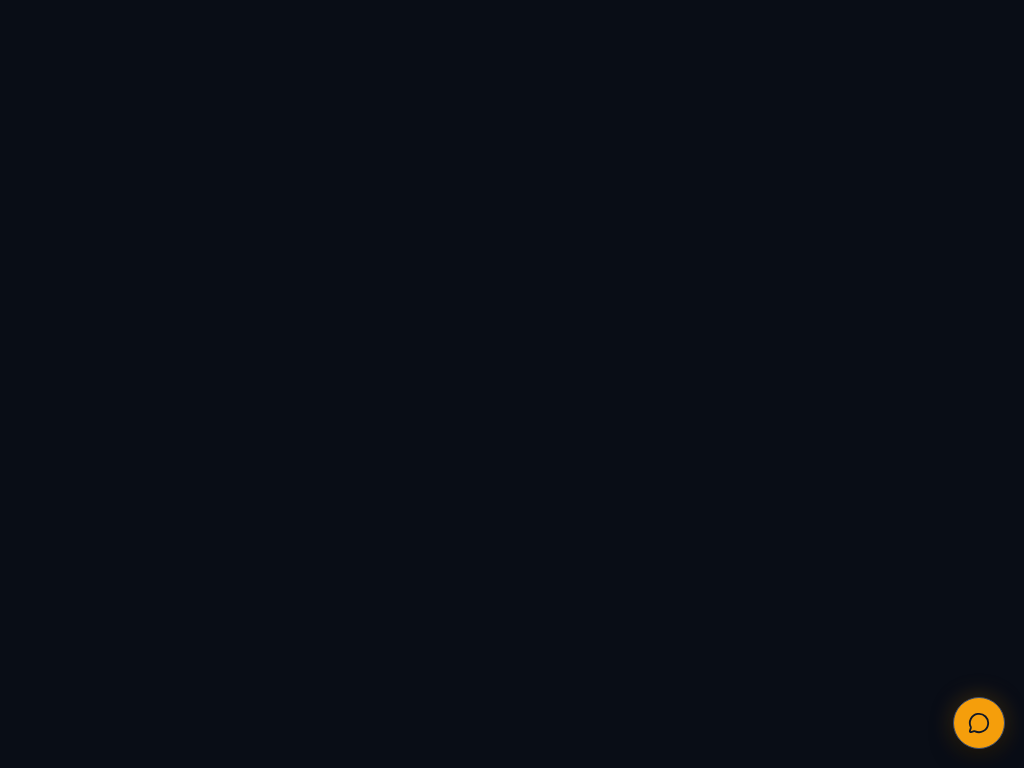
it: AssistantWidget › clear-chat deletes the conversation server-side and resets the UI
Click the button named "open assistant chat": click(979, 723) x1=953 y1=697 x2=1005 y2=749
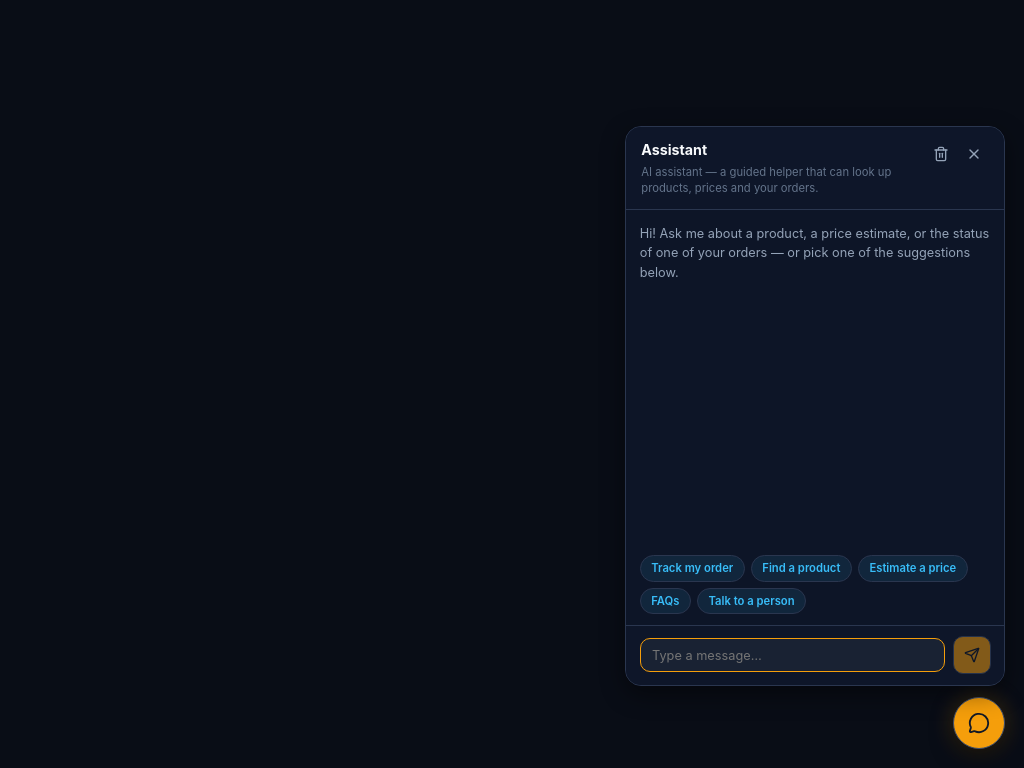
In the field named "message the assistant": (793, 655) x1=640 y1=638 x2=945 y2=672, type "Clear me"
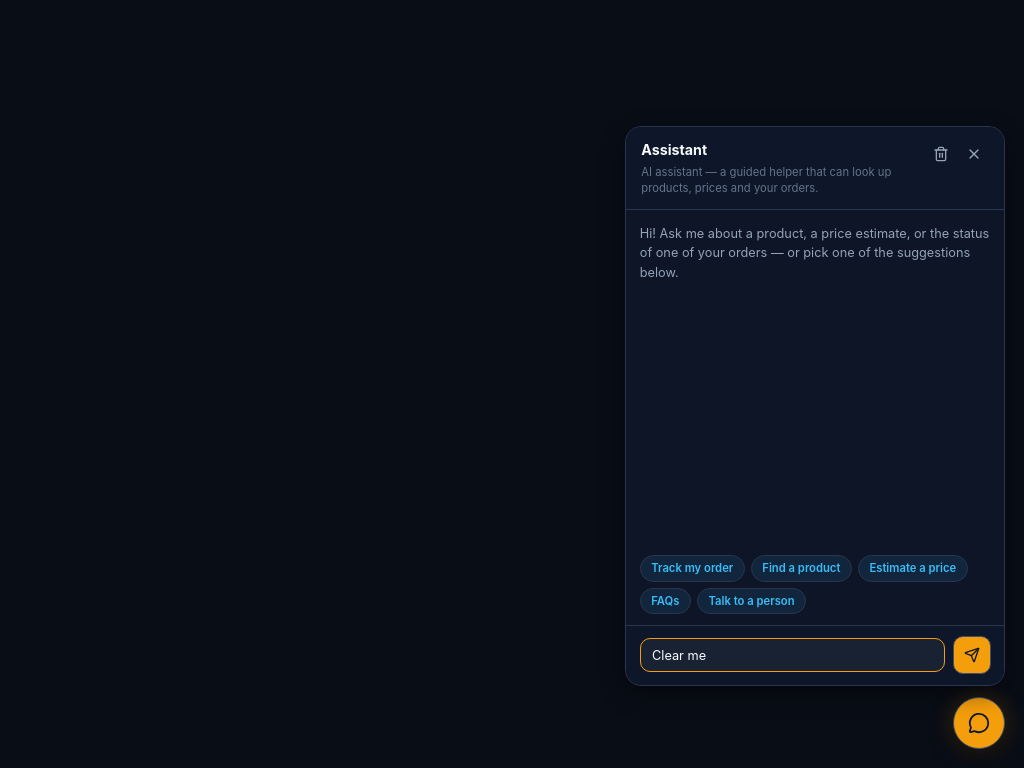
Click the button named "send message": click(972, 655) x1=953 y1=636 x2=991 y2=674
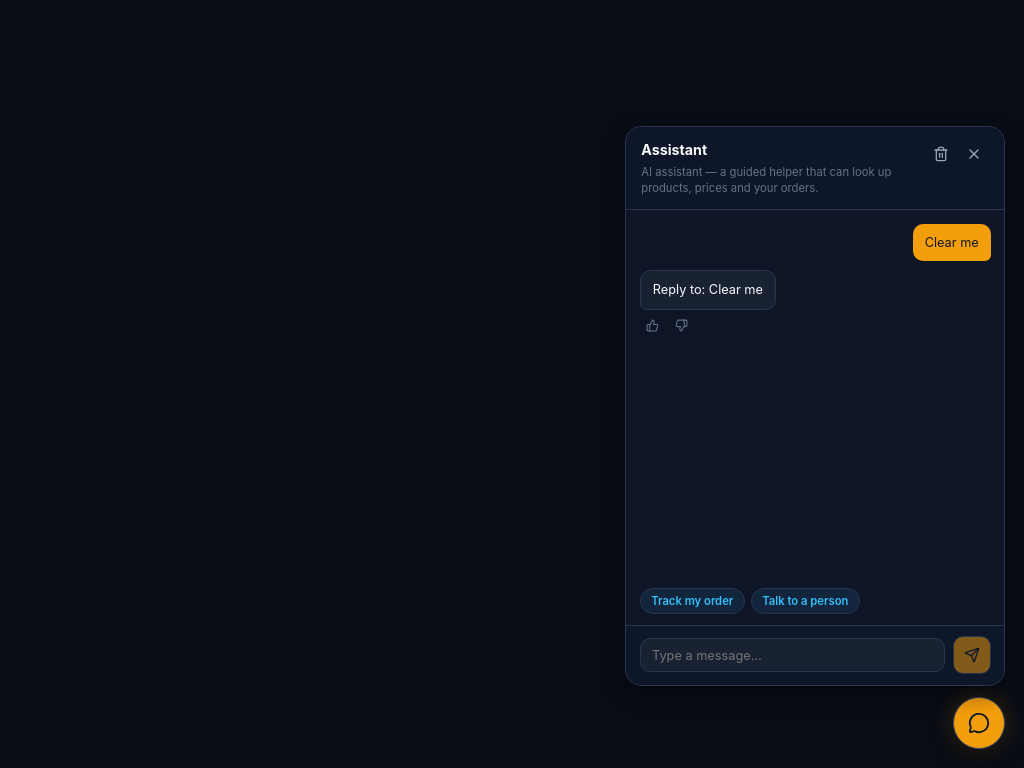
Click the button named "clear chat": click(940, 154) x1=926 y1=139 x2=956 y2=169
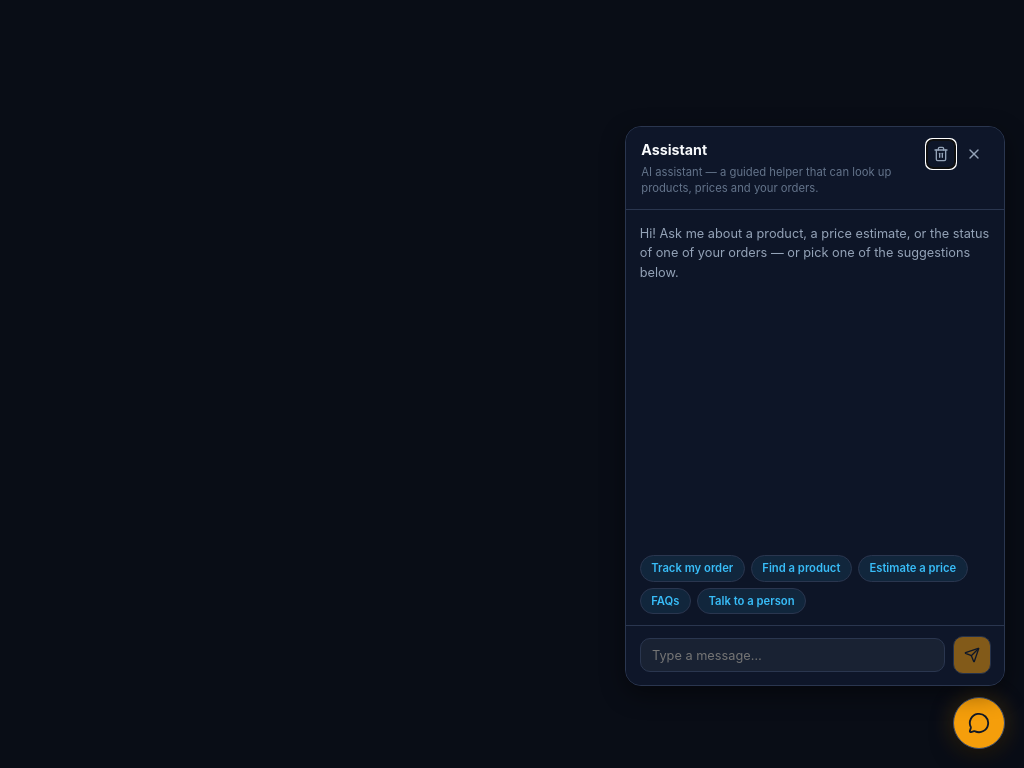
Expected: the text "Reply to: Clear me" is gone
Expected: the button "Find a product" is shown, x1=751 y1=555 x2=852 y2=582
